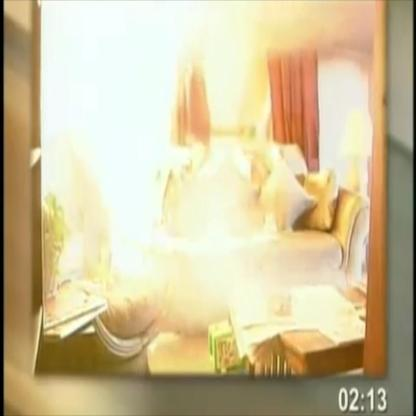fire: (43, 0, 171, 301)
